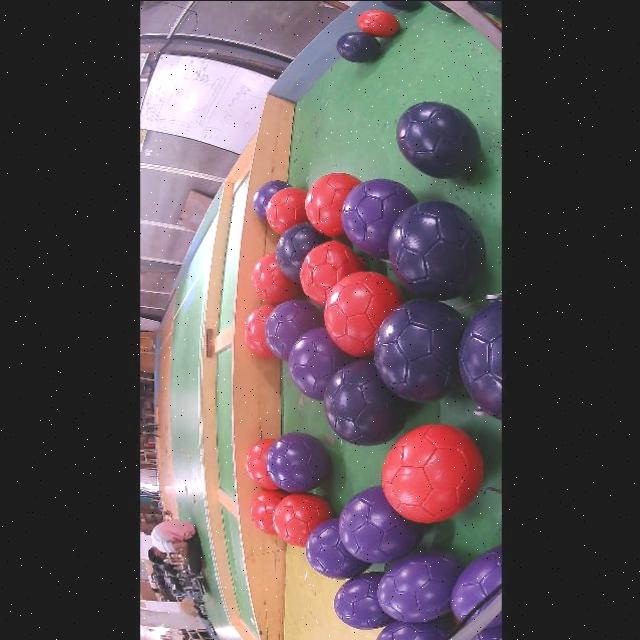B: (389, 200, 486, 299), (374, 298, 466, 401), (324, 360, 410, 445), (397, 101, 481, 179), (460, 297, 503, 418), (276, 221, 332, 282), (337, 30, 381, 62)
P: (339, 484, 425, 562), (378, 550, 465, 621), (342, 177, 417, 258), (289, 327, 357, 400), (306, 517, 370, 579), (266, 431, 330, 492), (452, 545, 503, 619), (265, 299, 325, 360), (334, 571, 394, 629), (377, 618, 455, 640), (254, 180, 291, 220)
R: (383, 423, 484, 522), (325, 270, 405, 356), (300, 240, 368, 306), (305, 172, 362, 236), (272, 492, 335, 546), (252, 252, 301, 303), (266, 186, 309, 234), (244, 304, 277, 358), (250, 489, 288, 535), (246, 438, 279, 488), (358, 9, 401, 36)
